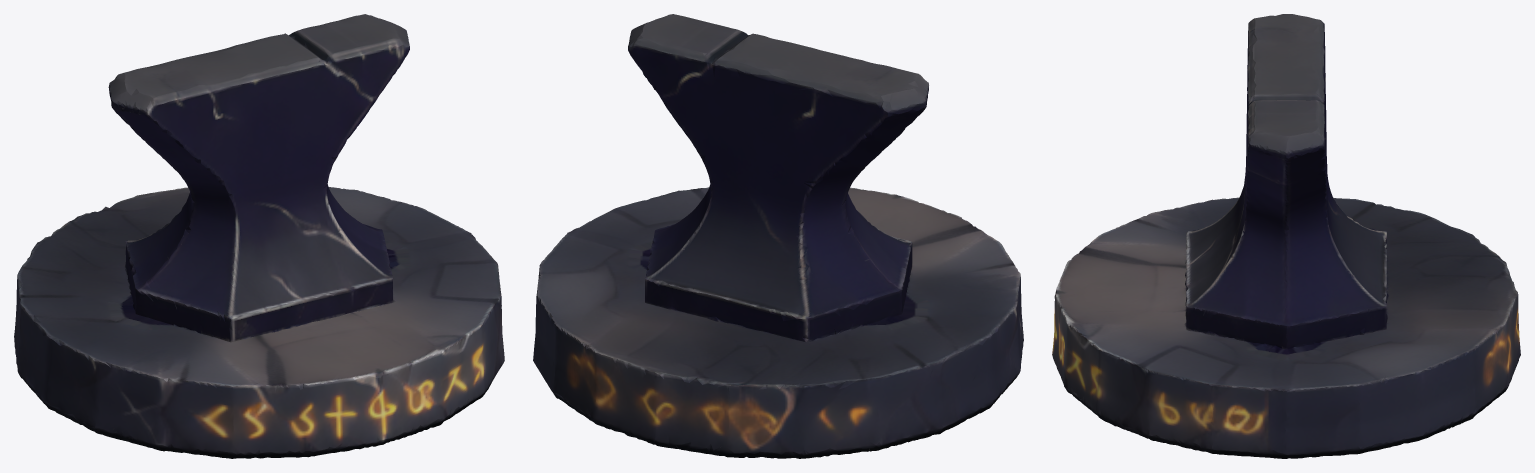
The model's file is rodin_Forge_Anvil_raw.glb.
3 views of the same model, side by side, from view 1: azimuth 30°, elevation 25°; view 2: azimuth 150°, elevation 25°; view 3: azimuth 270°, elevation 25° (orthographic). The views are drawn at different scales.
Visible parts, largest first — view 1: model; view 2: model; view 3: model.
Part boxes in pixels (x1,y1,x2,y2): model: [14, 14, 504, 458]; model: [533, 14, 1023, 458]; model: [1052, 14, 1520, 458].
Size of the model in its own units: 1.9 by 1.28 by 1.89.
1 material, 1 textured.
